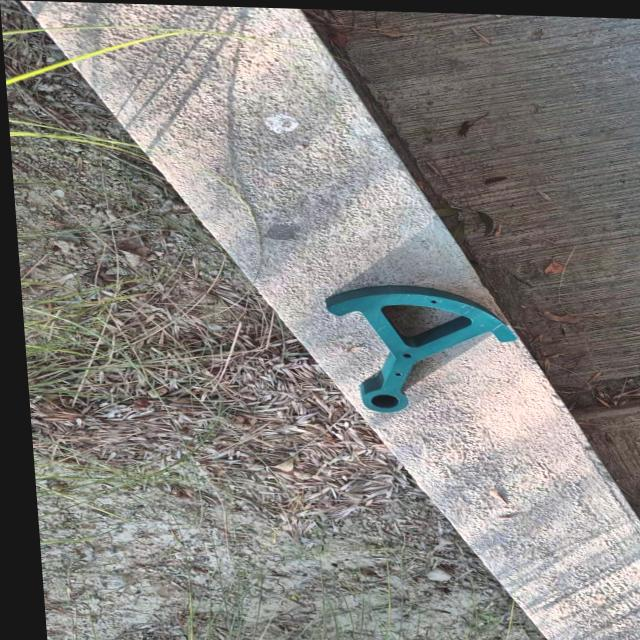haptic: (323, 282, 524, 418)
